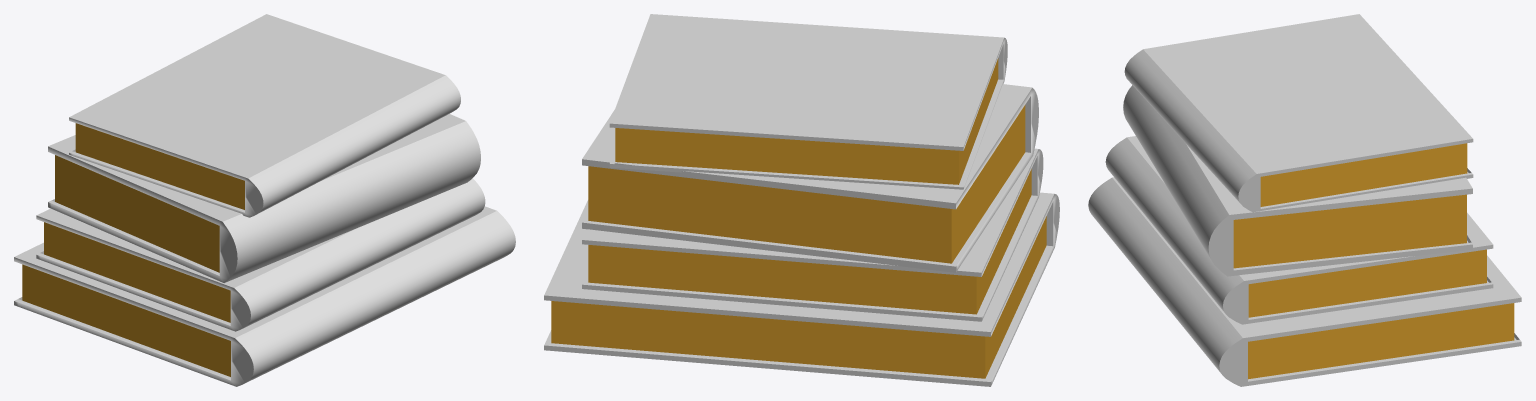
File: kitaplar.fbx
The picture shows the model from 3 angles, left to right: view 1: azimuth 30°, elevation 25°; view 2: azimuth 150°, elevation 25°; view 3: azimuth 270°, elevation 25°; orthographic projection. The views are drawn at different scales.
Parts seen in each view (by area): view 1: Cube.014; view 2: Cube.014; view 3: Cube.014.
Part boxes in pixels (bbox=[...]): Cube.014: bbox=[14, 14, 515, 386]; Cube.014: bbox=[544, 14, 1059, 386]; Cube.014: bbox=[1088, 14, 1521, 386].
Size of the model in its own units: 53.08 by 23.07 by 47.49.
